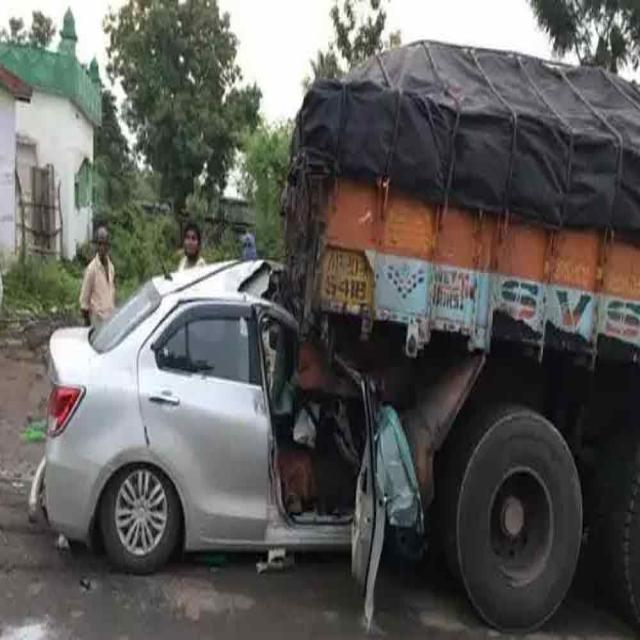accident: (40, 260, 361, 570)
truck: (288, 42, 640, 629)
